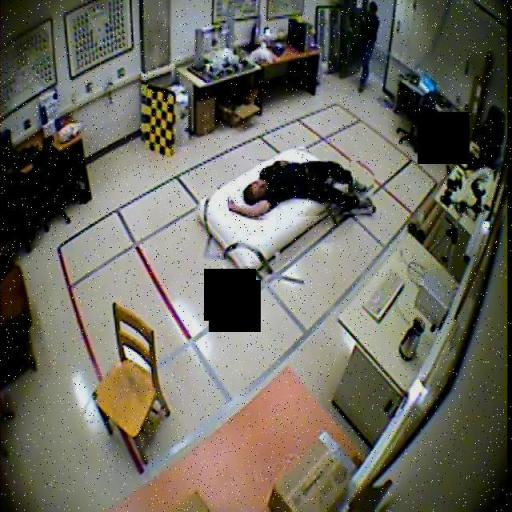Fall: (229, 161, 376, 220)
